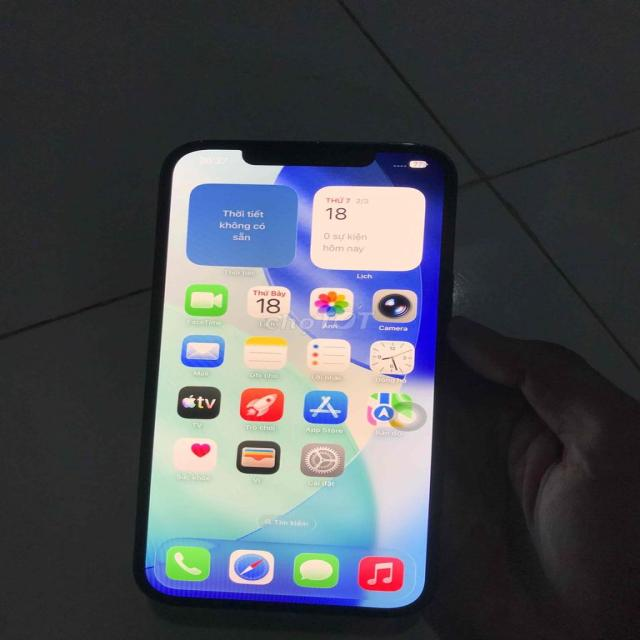gen_12_13: (128, 129, 467, 619)
